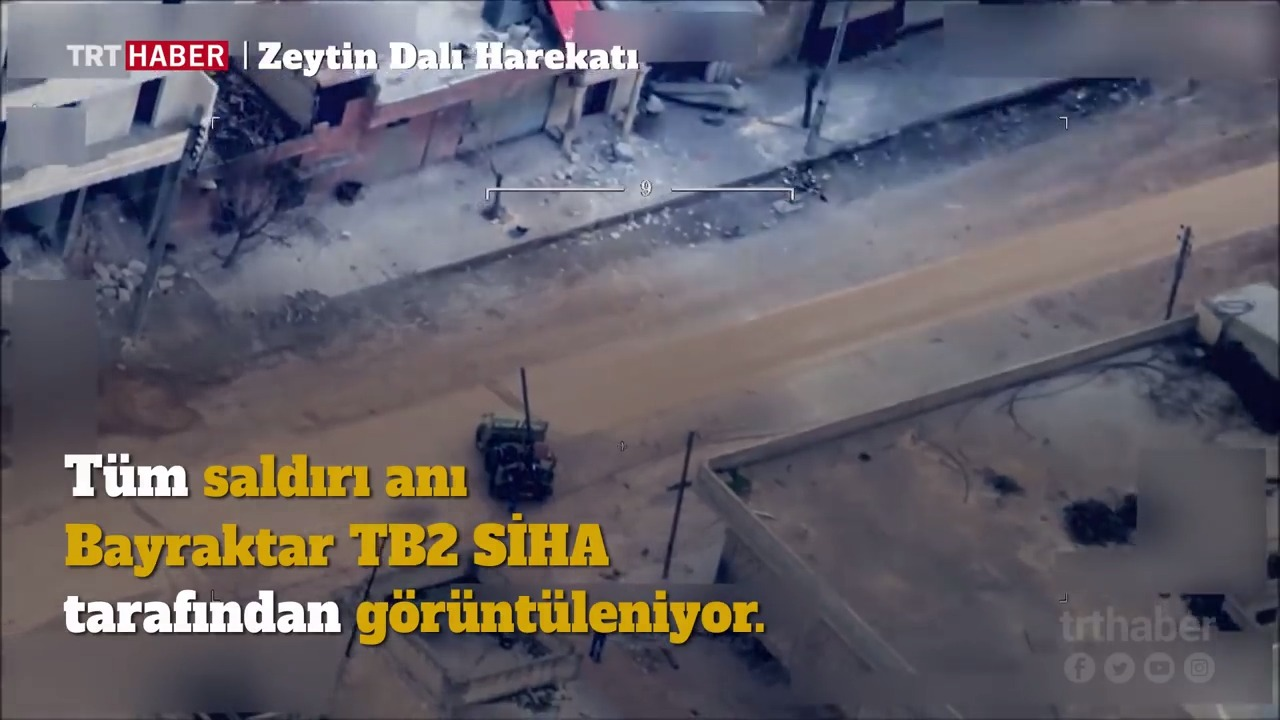arac: (466, 357, 566, 505)
